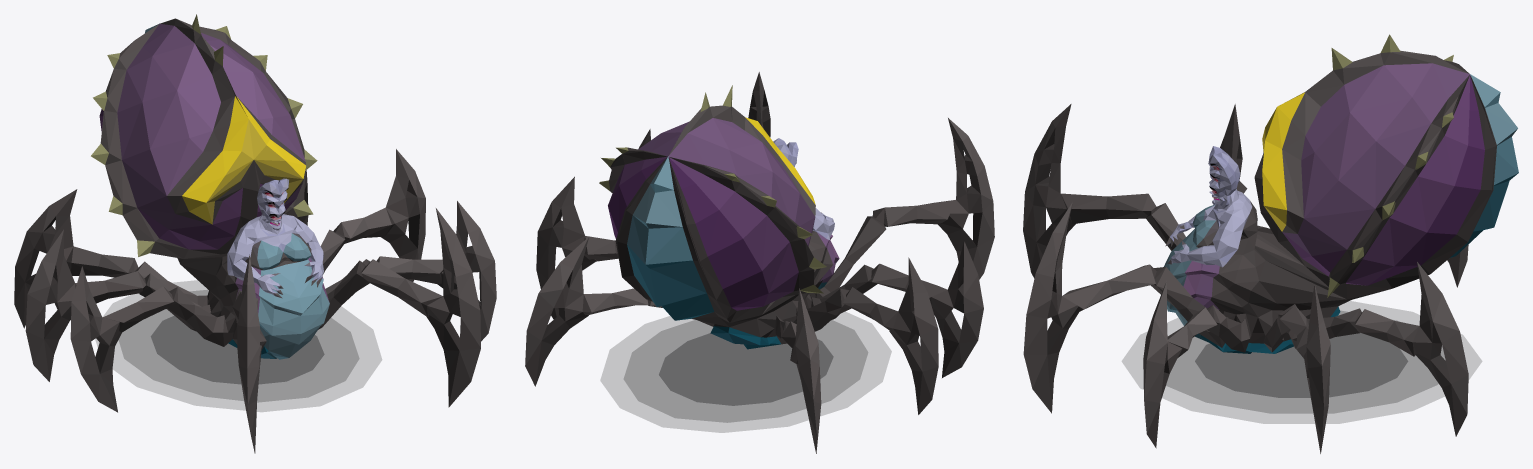
The model's file is verzik.glb.
The picture shows the model from 3 angles, left to right: view 1: azimuth 30°, elevation 25°; view 2: azimuth 150°, elevation 25°; view 3: azimuth 270°, elevation 25°; orthographic projection. The views are drawn at different scales.
Bounding box in the file's own units: 741 × 561 × 734.
Materials: 2 (2 with a texture image).
